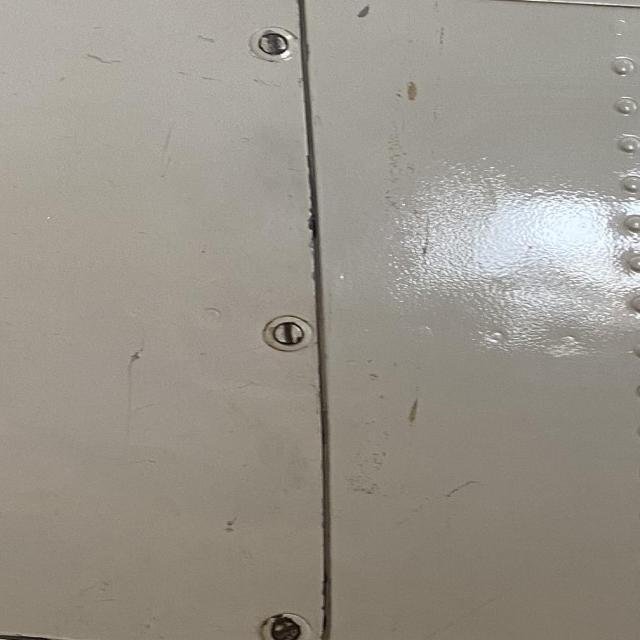Paint-off: (81, 50, 121, 65), (187, 27, 219, 45), (356, 2, 372, 18), (0, 34, 8, 56)
